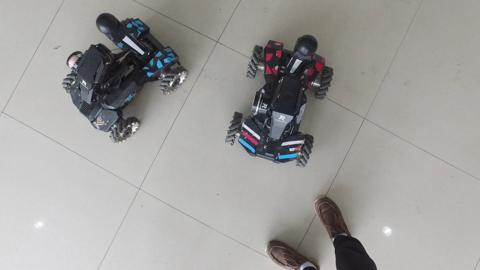chariot: (55, 11, 195, 148), (225, 26, 339, 174)
